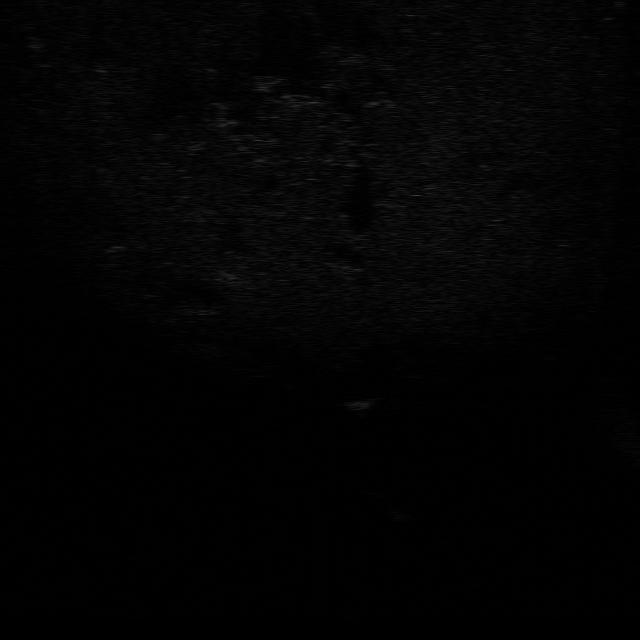square cage: (340, 391, 384, 413)
